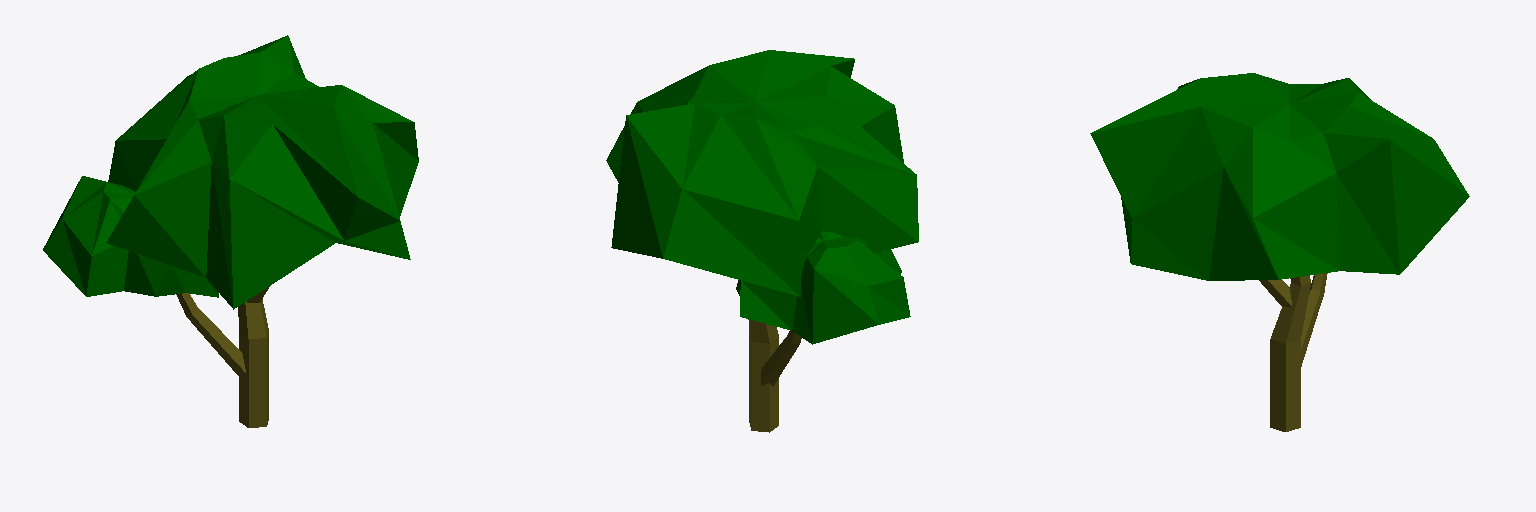
Rendered from tree.obj.
The picture shows the model from 3 angles: view 1: azimuth 30°, elevation 25°; view 2: azimuth 150°, elevation 25°; view 3: azimuth 270°, elevation 25°; orthographic projection.
Visible parts, largest first — view 1: leaves, trunks; view 2: leaves, trunks; view 3: leaves, trunks.
Boxes of the visible parts, x1,y1,x2,y2 form: leaves: [43, 35, 418, 309]; trunks: [176, 286, 269, 427]; leaves: [606, 50, 918, 344]; trunks: [748, 319, 801, 432]; leaves: [1090, 73, 1469, 280]; trunks: [1259, 273, 1327, 431].
Bounding box in the file's own units: 7.7 × 7.64 × 7.79.